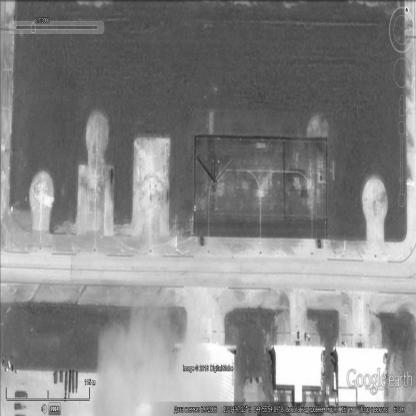B2: (198, 154, 235, 184)
